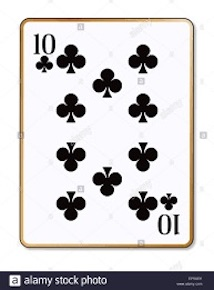TenOfClubs: (18, 15, 197, 250)
